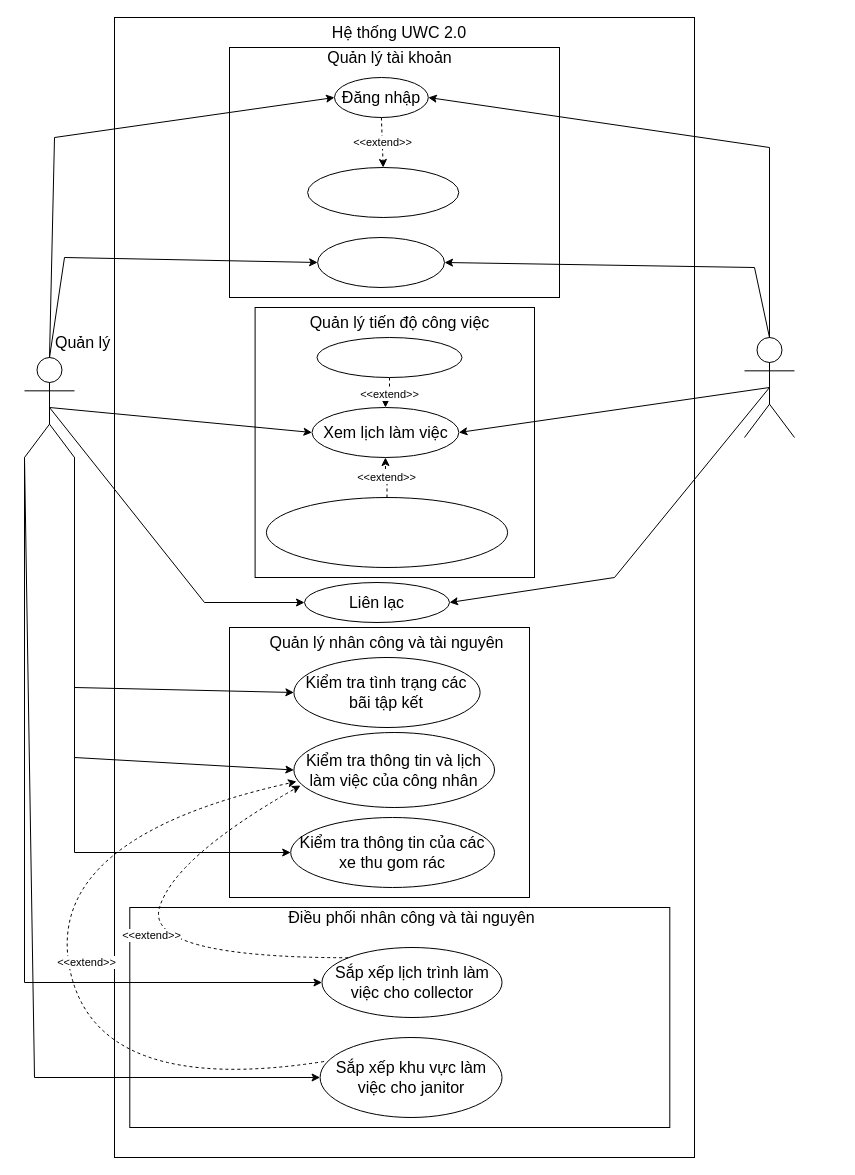
Image size: 855x1175. Some labels were removed from this diagram. Each missing label, with the box of its shape:
Chấm công: (316, 336, 462, 378)
Chỉnh sửa tài khoản: (307, 166, 459, 218)
Collectors / janitors: (744, 336, 794, 438)
Xem chi tiết công việc trong ngày/tuần: (265, 496, 508, 568)
Đăng xuất: (317, 236, 444, 288)
